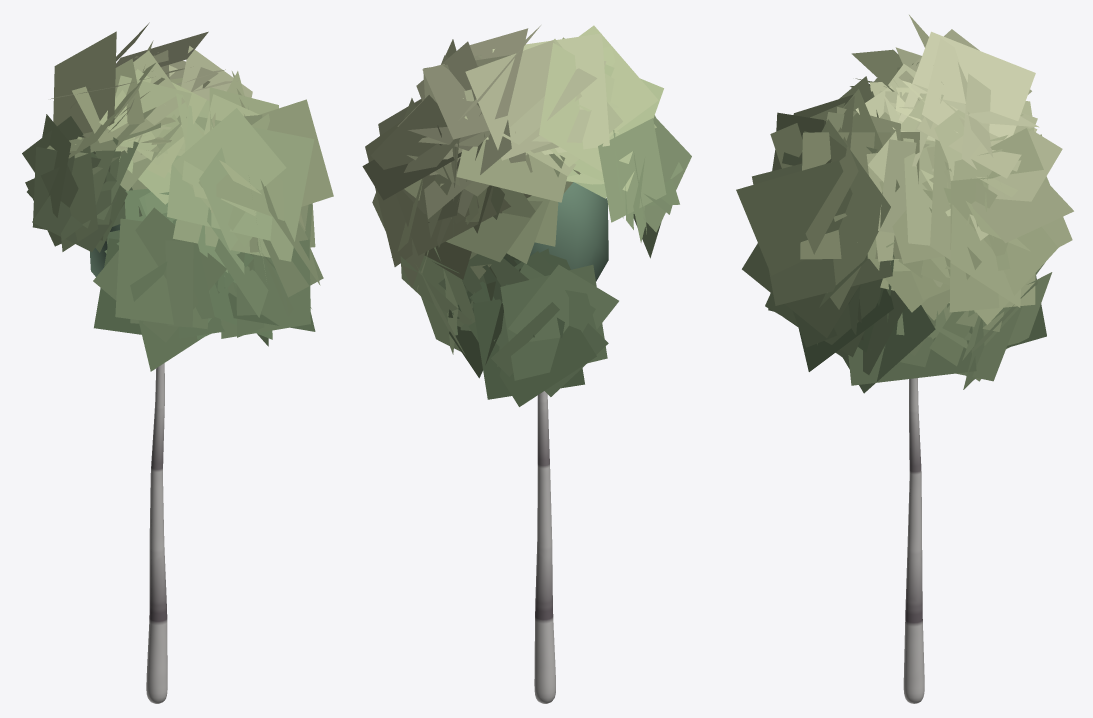
Rendered from b_silver_birch.glb.
3 views of the same model, side by side, from view 1: azimuth 30°, elevation 25°; view 2: azimuth 150°, elevation 25°; view 3: azimuth 270°, elevation 25° (orthographic). The views are drawn at different scales.
Parts seen in each view (by area): view 1: near; view 2: near; view 3: near.
Part boxes in pixels (bbox=[...]): near: bbox=[22, 22, 333, 703]; near: bbox=[362, 25, 691, 703]; near: bbox=[736, 15, 1073, 703].
Size of the model in its own units: 6.74 by 15.35 by 7.13.
